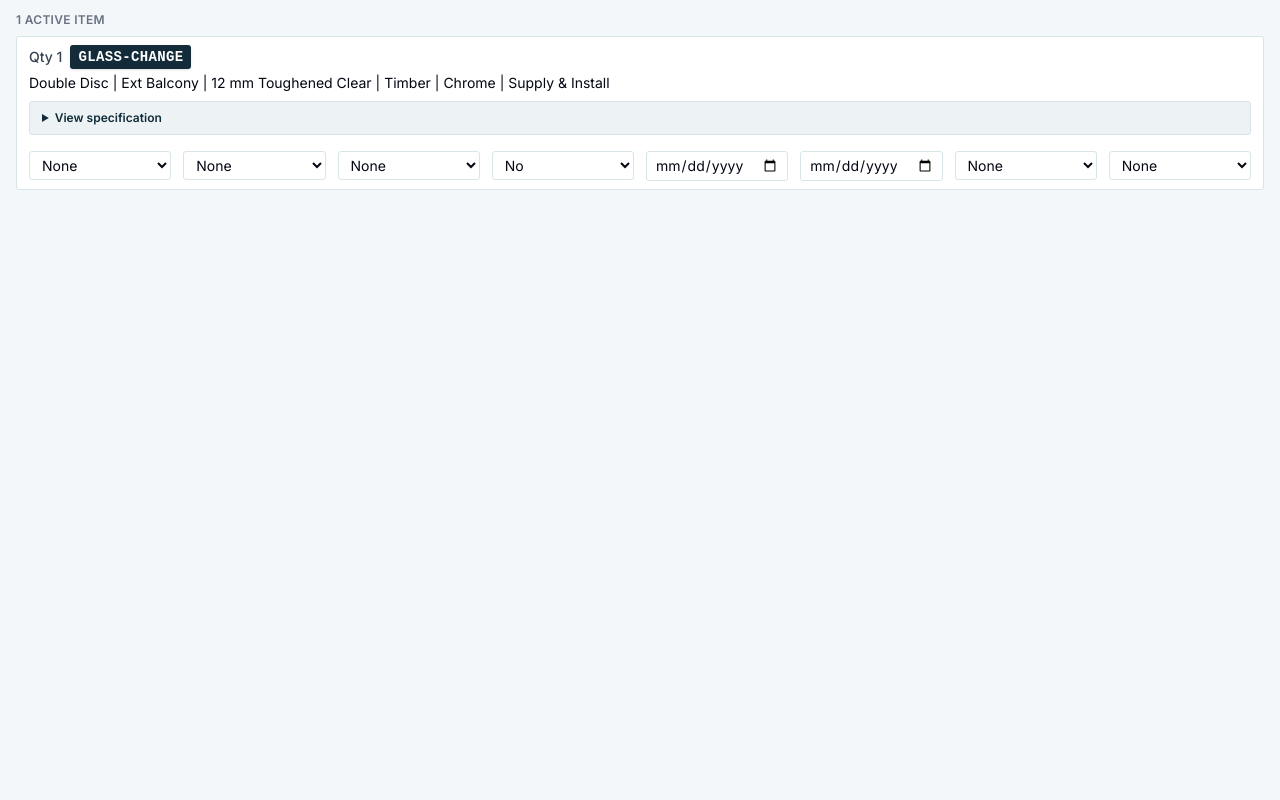
WorkOrderItemsSummary › lets a Manage user reopen a confirmed specification for a later client change
Click the heading "View specification".
click(108, 118)  # box top-left (55, 110), bottom-right (162, 125)
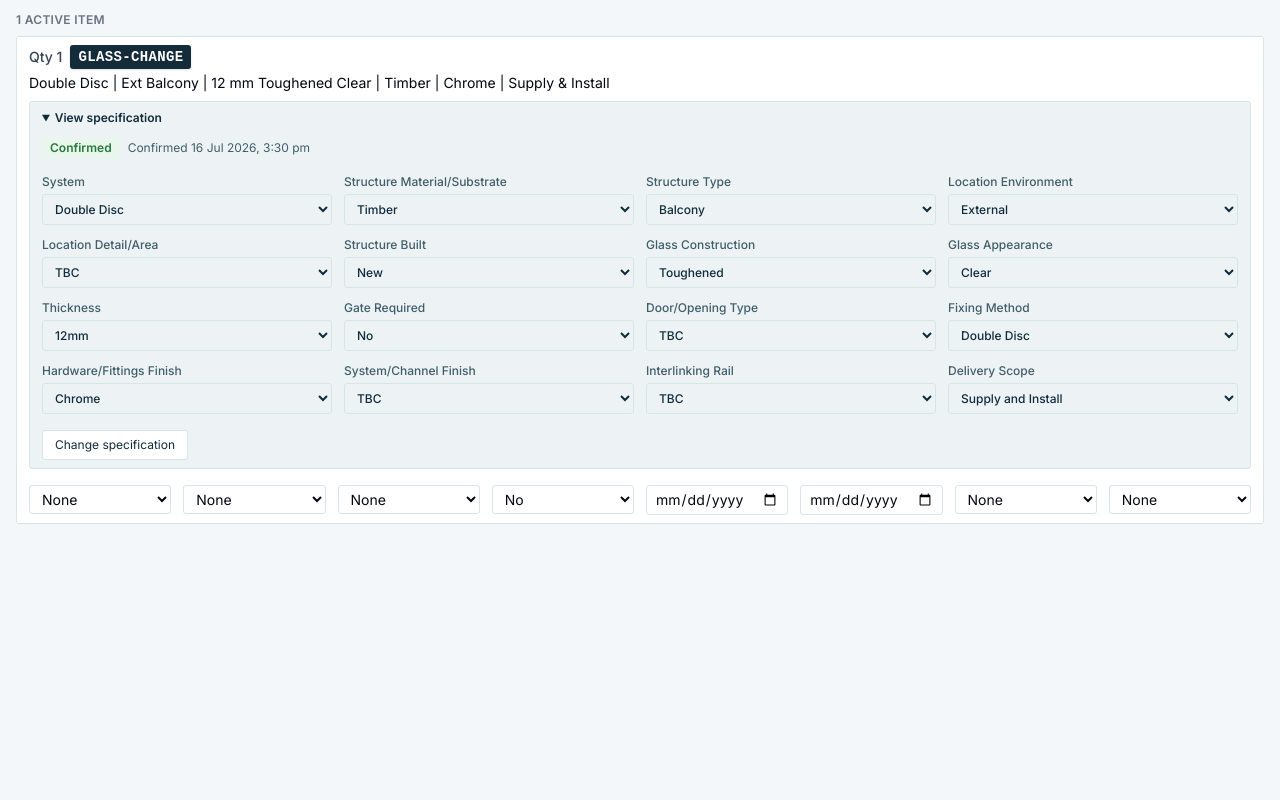
Click the button "Change specification".
click(115, 445)  # box top-left (42, 430), bottom-right (188, 460)
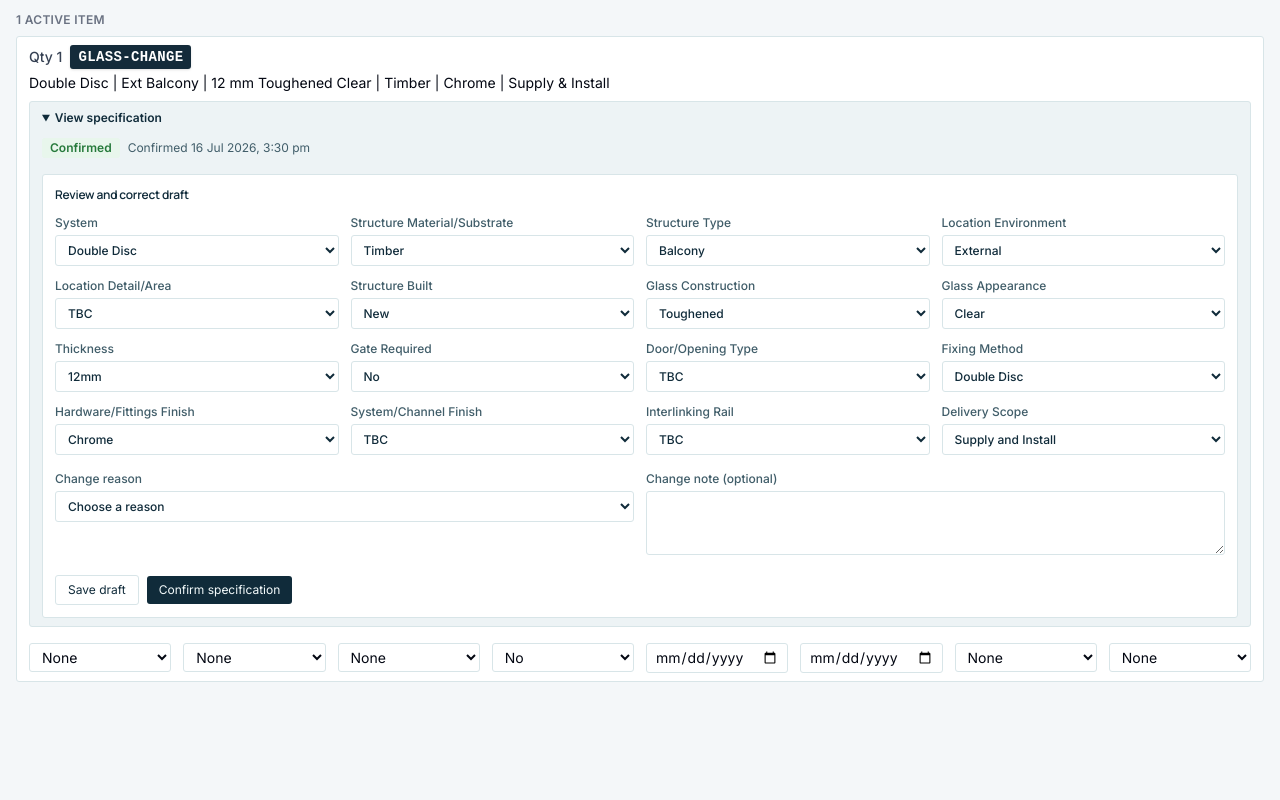
Result: the heading "Review and correct draft" is shown at top-left (55, 186), bottom-right (189, 203)
Result: the button "Confirm specification" is shown at top-left (147, 576), bottom-right (292, 604)
